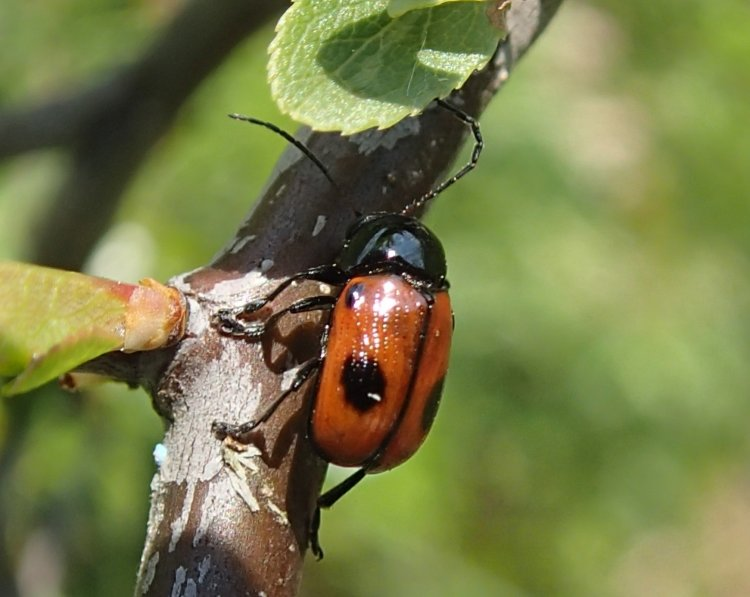Cryptocephalus_bipunctatus: (216, 94, 491, 485)
